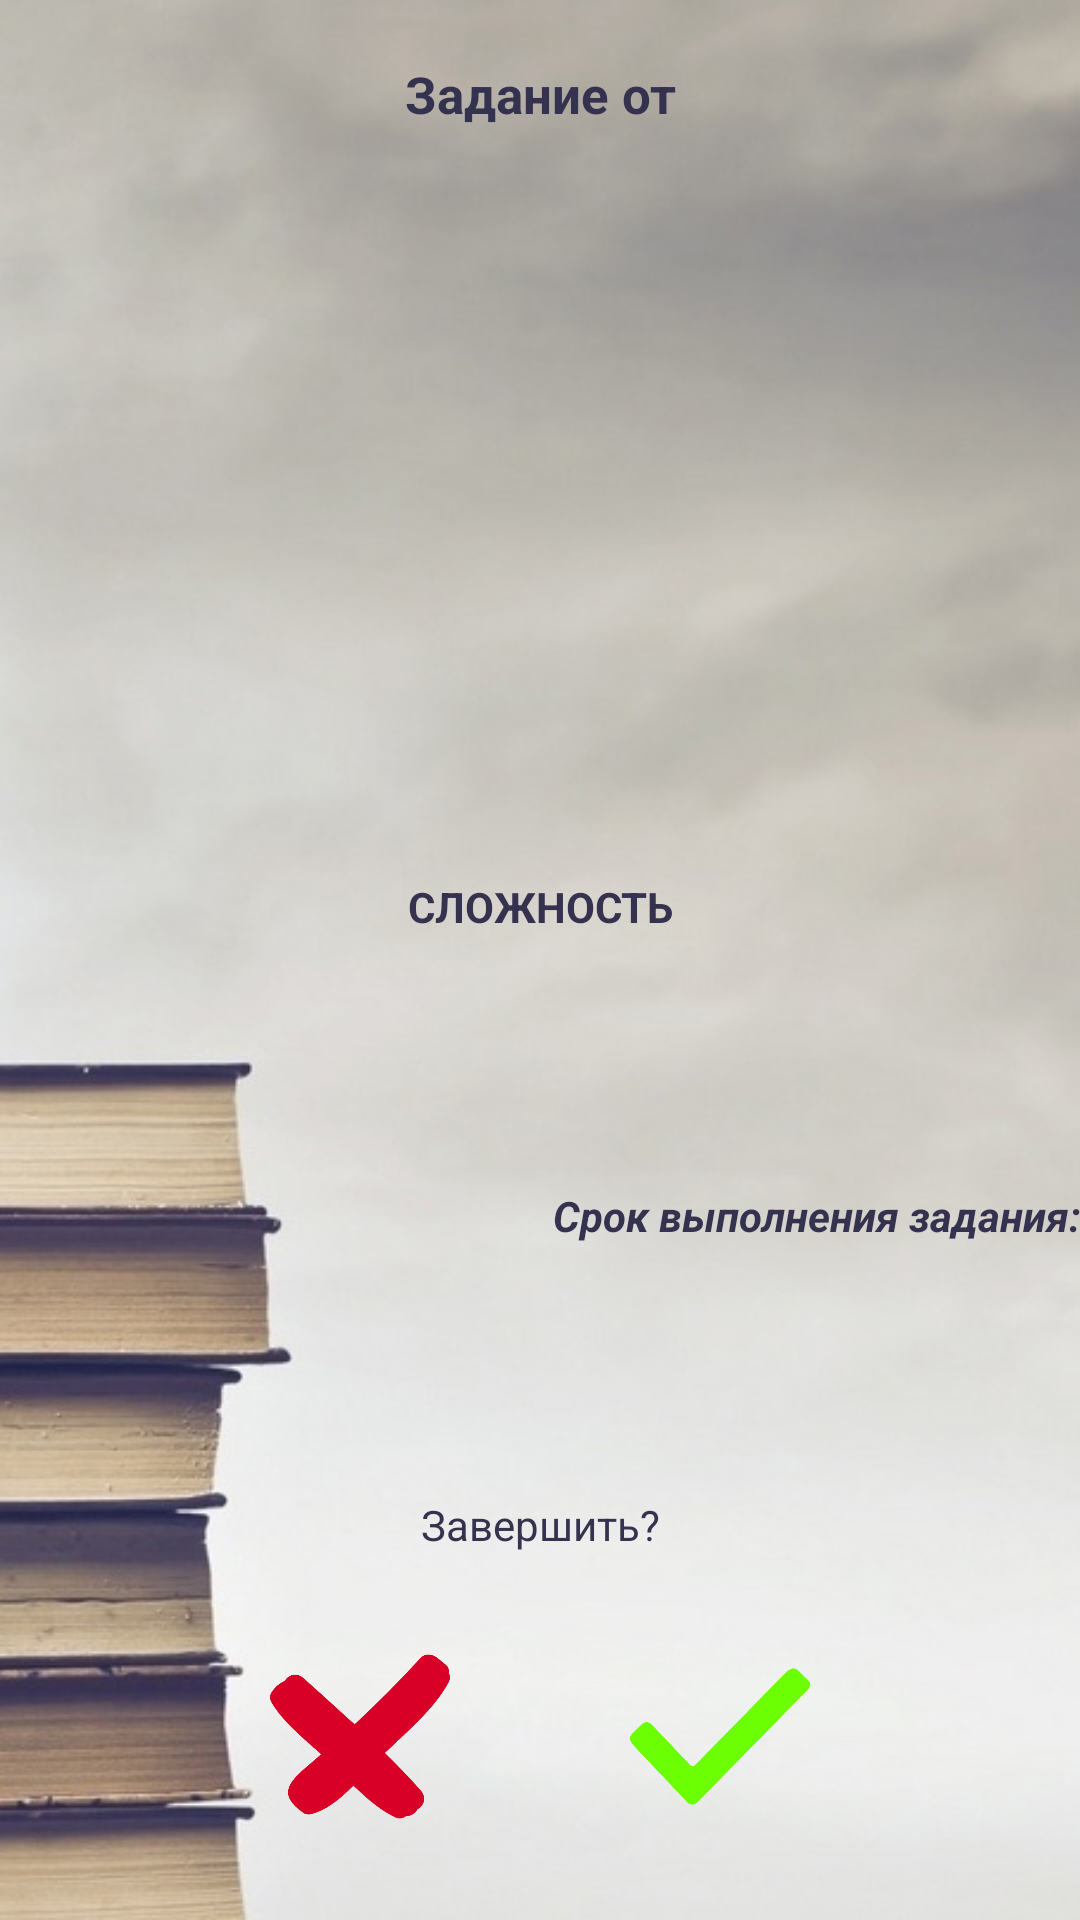

Point at icon controls on the screen. Image size 1080 x 1920, points as point (x, y).
checked: point (720, 1736)
cross: point (360, 1736)
